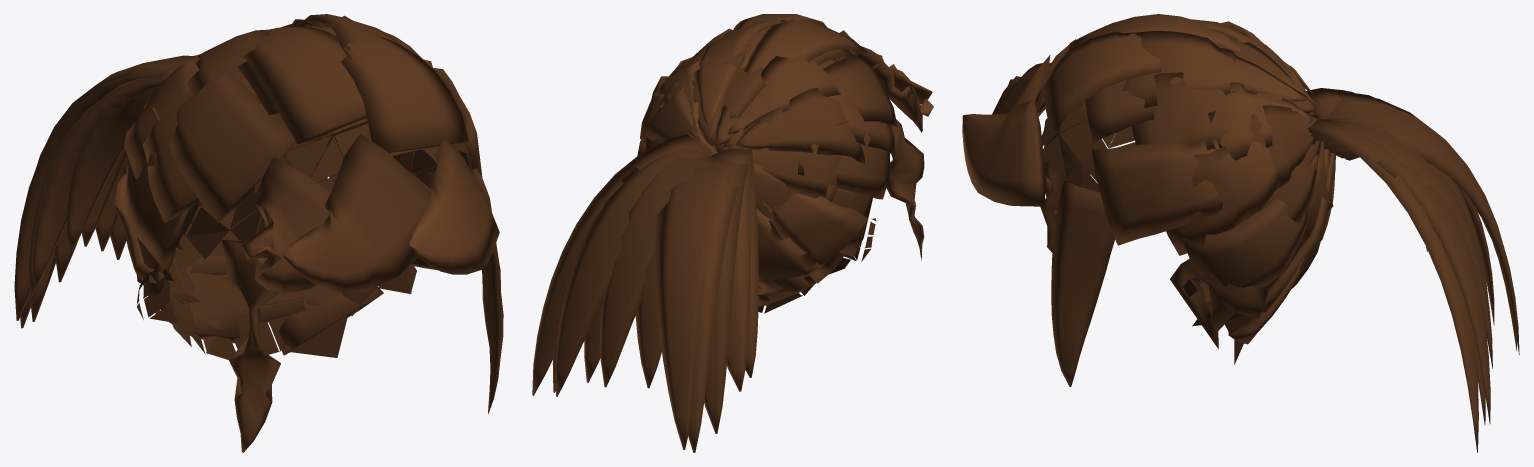
Rendered from kopf.haar.zopf_wild.glb.
3 renders of one model, left to right at view 1: azimuth 30°, elevation 25°; view 2: azimuth 150°, elevation 25°; view 3: azimuth 270°, elevation 25°, orthographic. The views are drawn at different scales.
Visible parts, largest first — view 1: haar; view 2: haar; view 3: haar.
Boxes of the visible parts, x1,y1,x2,y2 form: haar: [14, 14, 503, 452]; haar: [532, 14, 933, 452]; haar: [962, 14, 1519, 452].
Bounding box in the file's own units: 0.1941 × 0.2439 × 0.3393.
